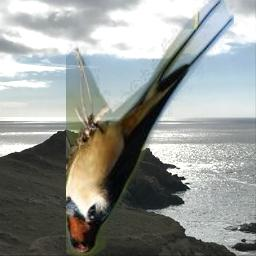Swallow: (66, 0, 234, 256)
